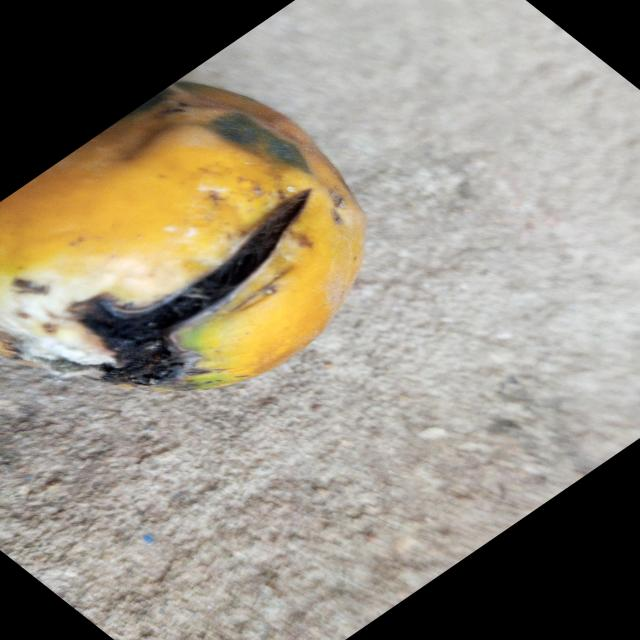damaged: (0, 81, 366, 391)
